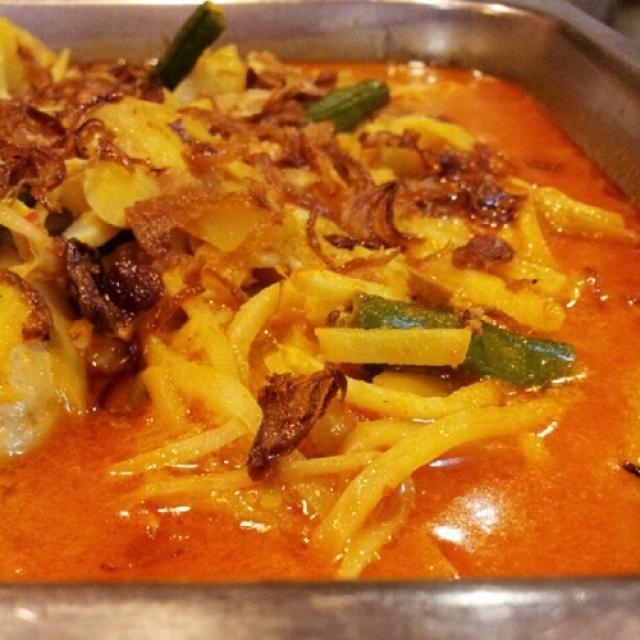熟制海鲜: (9, 18, 634, 610)
